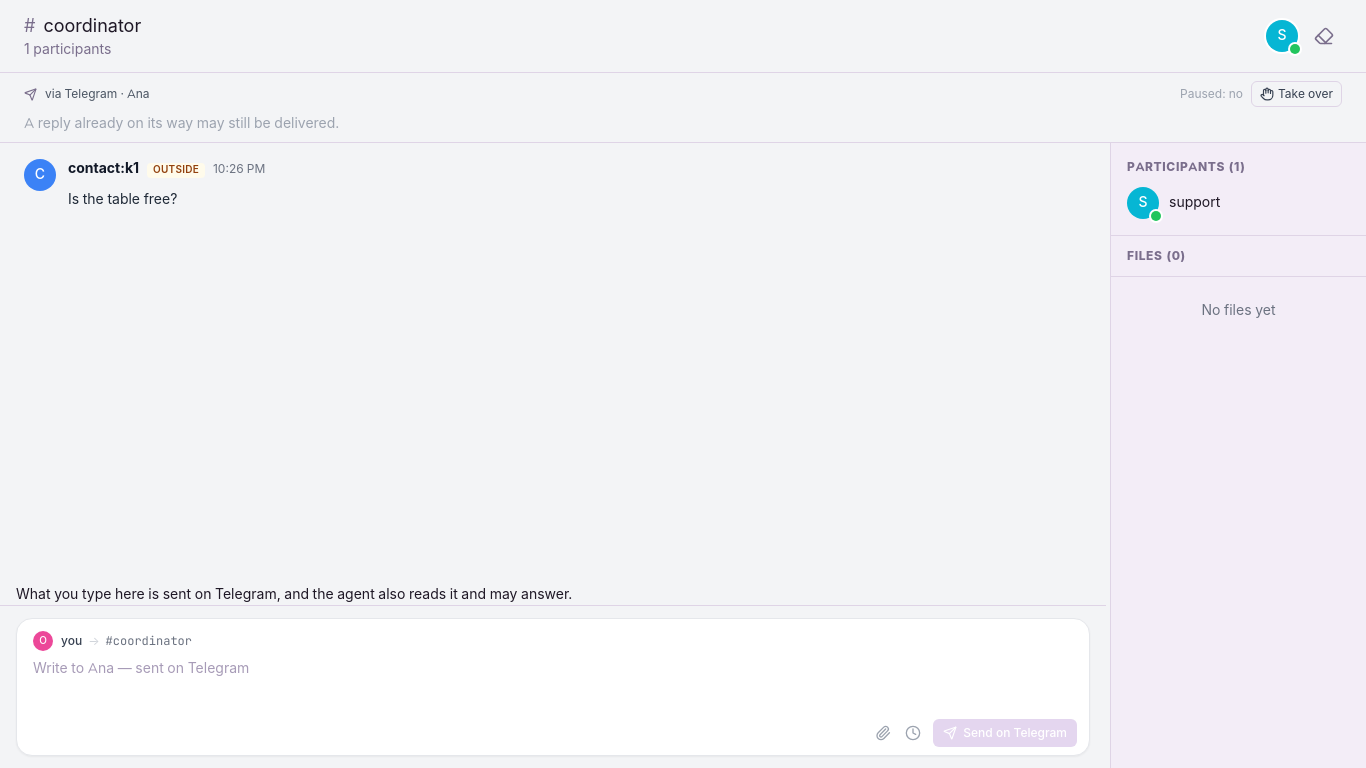
Test: Take over / Hand back › Take over pauses this thread: PUT {paused: true}, then the banner and "Send on Telegram"
Click the button "Take over" at (1296, 94), box [1251,81,1342,107]
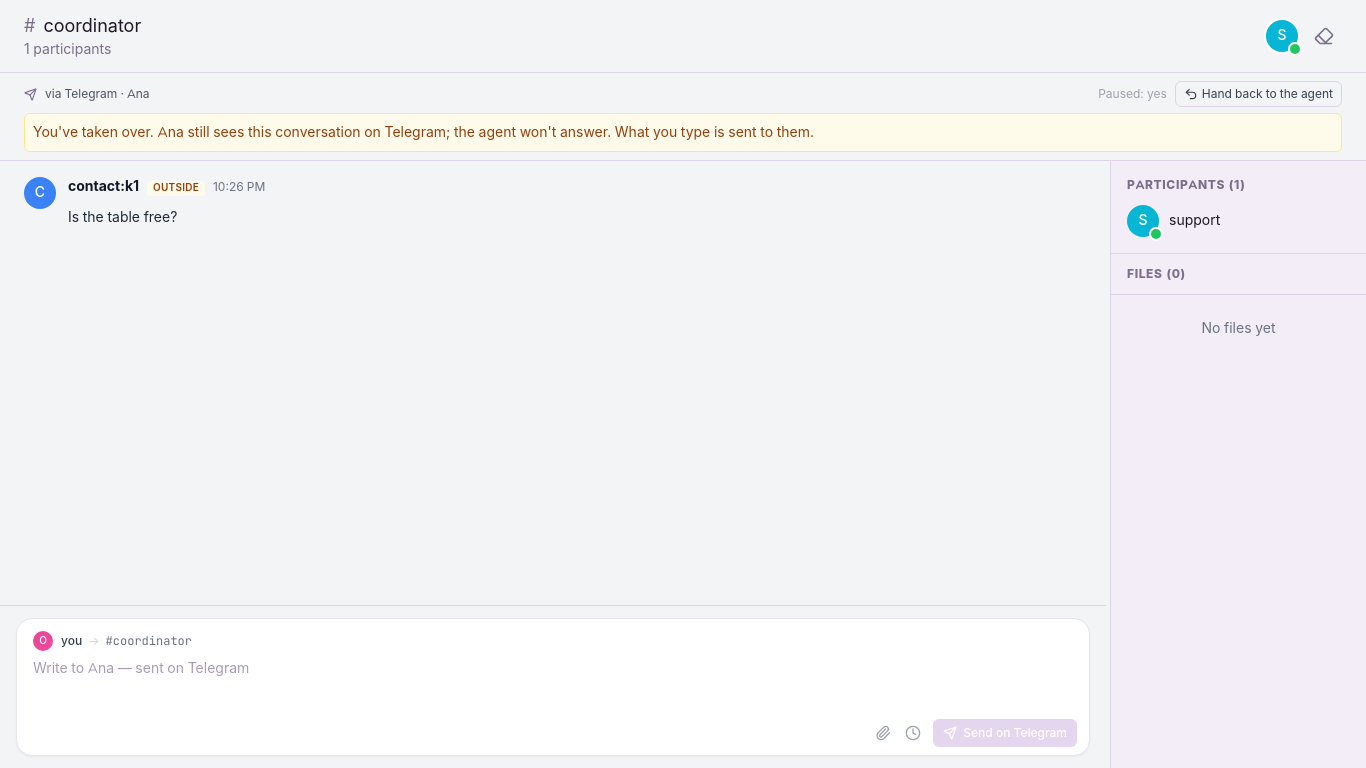
Expected: the button "Send on Telegram" is shown, [933,719,1077,747]
Expected: the message with test id "channel-paused-banner" is shown, [24,113,1342,152]
Expected: the text with test id "channel-pause-state" reads "Paused: yes", [1098,86,1167,102]
